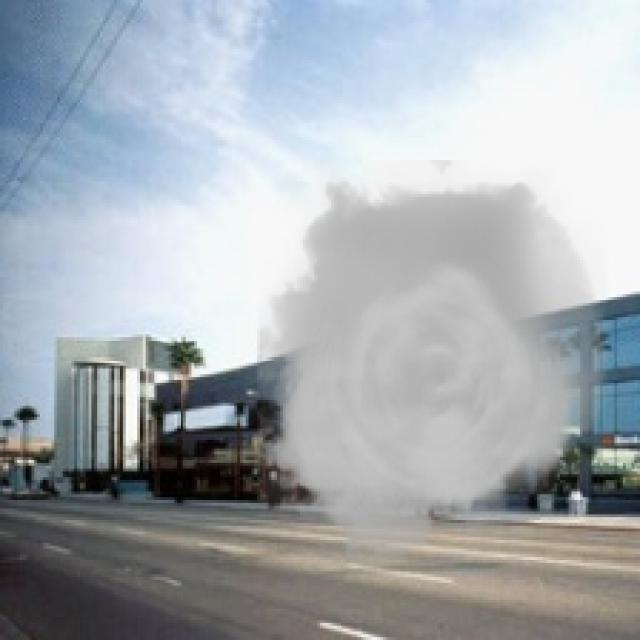Smoke: (257, 160, 609, 577)
